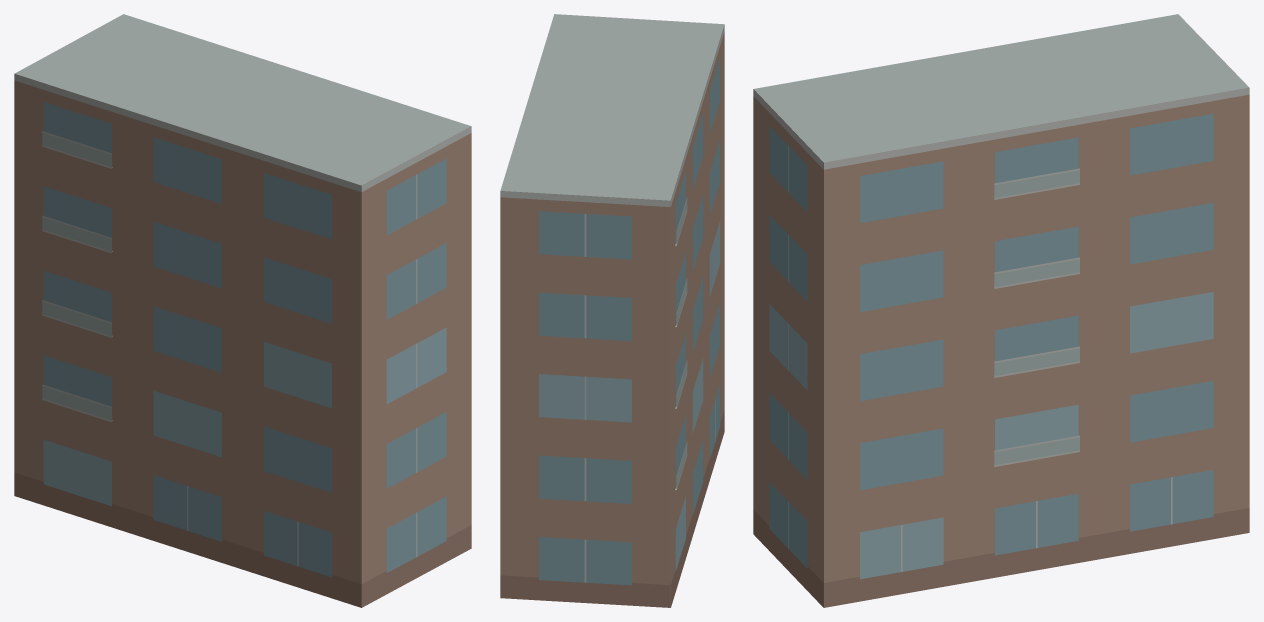
File: survey-upis-32926478.glb
The picture shows the model from 3 angles, left to right: view 1: azimuth 30°, elevation 25°; view 2: azimuth 150°, elevation 25°; view 3: azimuth 270°, elevation 25°; orthographic projection. The views are drawn at different scales.
Visible parts, largest first — view 1: survey-upis-32926478.tmp; view 2: survey-upis-32926478.tmp; view 3: survey-upis-32926478.tmp.
Part boxes in pixels (x1=…): survey-upis-32926478.tmp: x1=14, y1=14, x2=471, y2=607; survey-upis-32926478.tmp: x1=500, y1=14, x2=724, y2=607; survey-upis-32926478.tmp: x1=753, y1=14, x2=1249, y2=607.
Size of the model in its own units: 11.04 by 15.4 by 15.56.
